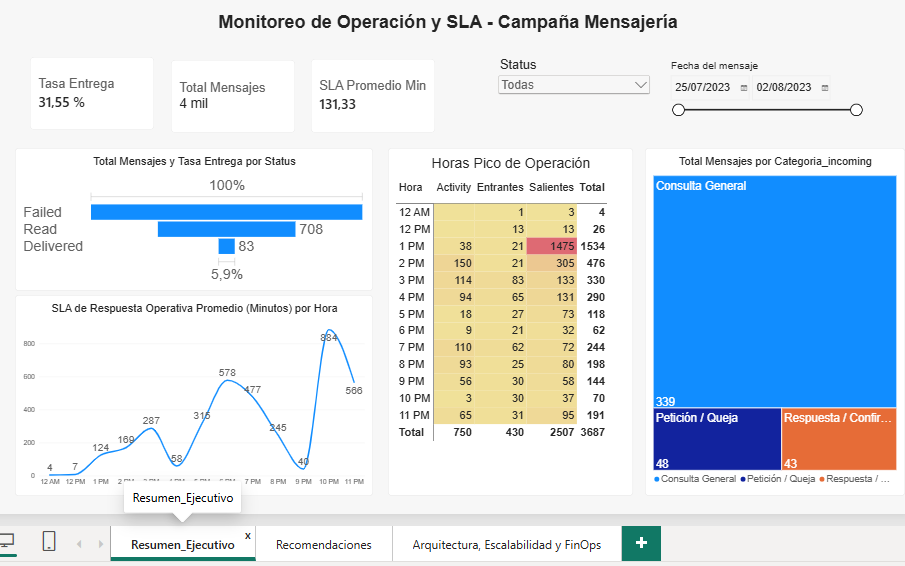

This screenshot's page, from the dashboard's own definition file:
{"tool":"powerbi","page":{"name":"Resumen_Ejecutivo","canvas":[1920,1080],"ordinal":0},"visuals":[{"type":"textbox","box":[0,45.4,1920,47.5],"z":0},{"type":"slicer","fields":{"Values":["db_messaging fact_mensajes.Created_date"]},"box":[1451.4,144.5,368.2,181.9],"z":1000},{"type":"slicer","fields":{"Values":["db_messaging fact_mensajes.Status"]},"box":[1059.1,138.3,323.2,187.2],"z":2000},{"type":"cardVisual","fields":{"Data":["db_messaging fact_mensajes.Total Mensajes"]},"box":[388.1,144.5,256,150.7],"z":3000},{"type":"cardVisual","fields":{"Data":["db_messaging fact_mensajes.Tasa Entrega"]},"box":[97,138.3,256,150.7],"z":4000},{"type":"cardVisual","fields":{"Data":["db_messaging fact_mensajes.SLA Promedio Min"]},"box":[677.2,142.5,256,152.8],"z":5000},{"type":"funnel","fields":{"Category":["db_messaging fact_mensajes.Status"],"Y":["db_messaging fact_mensajes.Total Mensajes"]},"box":[66.1,326.2,739.1,295.2],"z":6000},{"type":"pivotTable","title":"Horas Pico de Operación","fields":{"Values":["db_messaging fact_mensajes.Total Mensajes"],"Rows":["db_messaging fact_mensajes.created_hour_label"],"Columns":["db_messaging fact_mensajes.Tipo Mensaje"]},"box":[836.1,326.2,505.8,718.5],"z":7000},{"type":"treemap","fields":{"Group":["db_messaging fact_mensajes.Categoria_incoming"],"Values":["db_messaging fact_mensajes.Total Mensajes"]},"box":[1366.7,326.2,536.8,718.5],"z":8000},{"type":"lineChart","title":"SLA de Respuesta Operativa Promedio (Minutos) por Hora","fields":{"Category":["db_messaging fact_mensajes.created_hour_label"],"Y":["Avg(db_messaging vw_sla_tiempos_respuesta.sla_promedio_minutos)"]},"box":[66.1,629.7,739.1,415],"z":9000}]}

Visuals, with their boxes on the page's 1920x1080 design canvas (x1, y1, x2, y2). These are canvas units, not pixel positions in the 905x566 screenshot, which may show the page scaled, cropped or inside an application window:
textbox: (0, 45, 1920, 93)
slicer - db_messaging fact_mensajes.Created_date: (1451, 144, 1820, 326)
slicer - db_messaging fact_mensajes.Status: (1059, 138, 1382, 326)
cardVisual - db_messaging fact_mensajes.Total Mensajes: (388, 144, 644, 295)
cardVisual - db_messaging fact_mensajes.Tasa Entrega: (97, 138, 353, 289)
cardVisual - db_messaging fact_mensajes.SLA Promedio Min: (677, 142, 933, 295)
funnel - db_messaging fact_mensajes.Status x db_messaging fact_mensajes.Total Mensajes: (66, 326, 805, 621)
"Horas Pico de Operación" pivotTable: (836, 326, 1342, 1045)
treemap - db_messaging fact_mensajes.Categoria_incoming x db_messaging fact_mensajes.Total Mensajes: (1367, 326, 1904, 1045)
"SLA de Respuesta Operativa Promedio (Minutos) por Hora" lineChart: (66, 630, 805, 1045)
